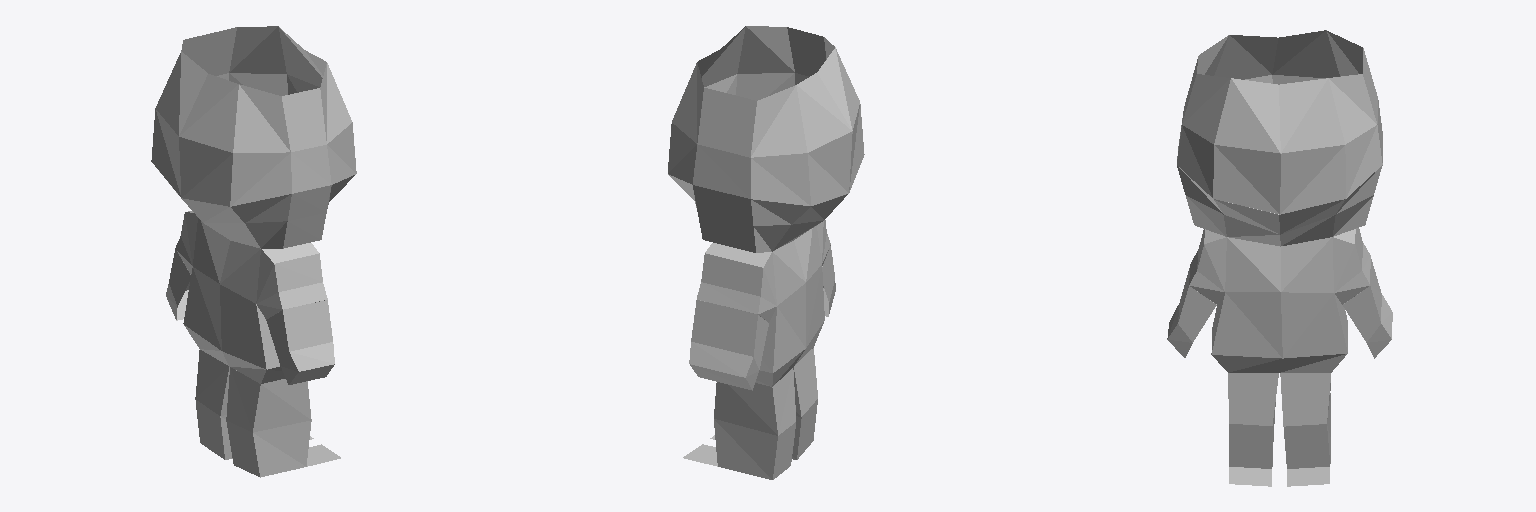
The model's file is BoyFake.obj.
3 renders of one model, left to right at view 1: azimuth 30°, elevation 25°; view 2: azimuth 150°, elevation 25°; view 3: azimuth 270°, elevation 25°, orthographic.
Visible parts, largest first — view 1: Plane; view 2: Plane; view 3: Plane.
Part boxes in pixels (x1,y1,x2,y2): Plane: (151, 26, 356, 477); Plane: (668, 26, 864, 479); Plane: (1167, 30, 1392, 486).
Size of the model in its own units: 1.44 by 3.41 by 1.74.